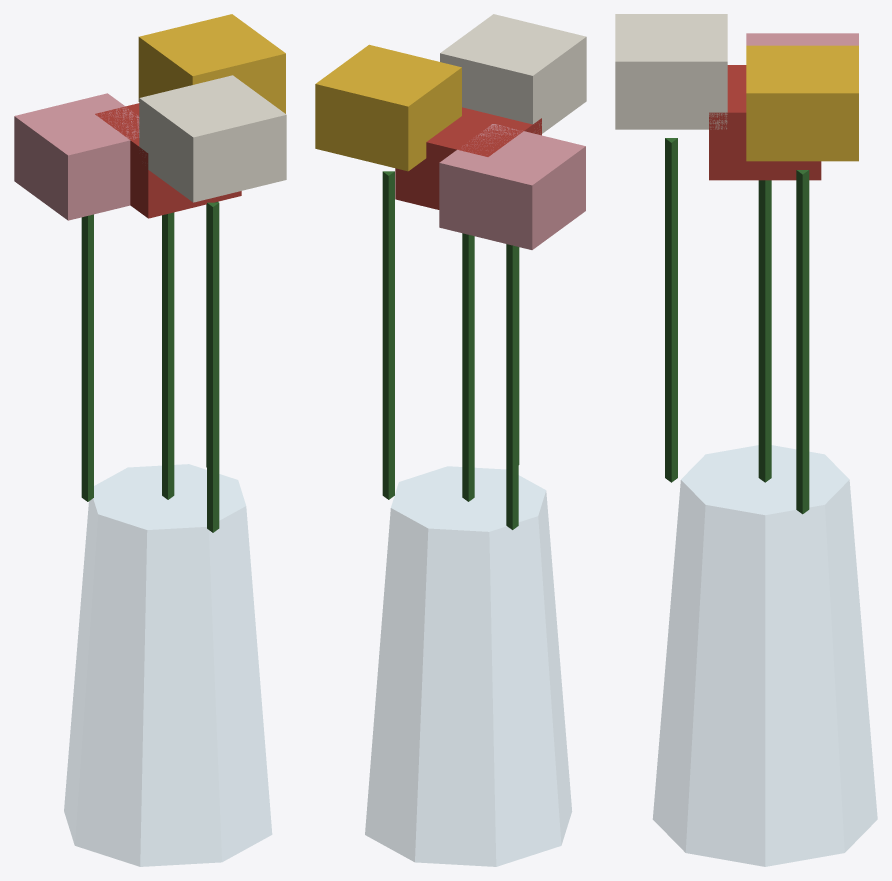
File: GD_VaseFlowers_01.glb
The picture shows the model from 3 angles, left to right: view 1: azimuth 30°, elevation 25°; view 2: azimuth 150°, elevation 25°; view 3: azimuth 270°, elevation 25°; orthographic projection. The views are drawn at different scales.
Parts seen in each view (by area): view 1: GD_VaseFlowers_01; view 2: GD_VaseFlowers_01; view 3: GD_VaseFlowers_01.
Part boxes in pixels (<box>): GD_VaseFlowers_01: <box>14,14,286,866</box>; GD_VaseFlowers_01: <box>315,14,586,866</box>; GD_VaseFlowers_01: <box>615,14,877,866</box>.
Bounding box in the file's own units: 0.14 × 0.46 × 0.14.
2 materials, 2 textured.
